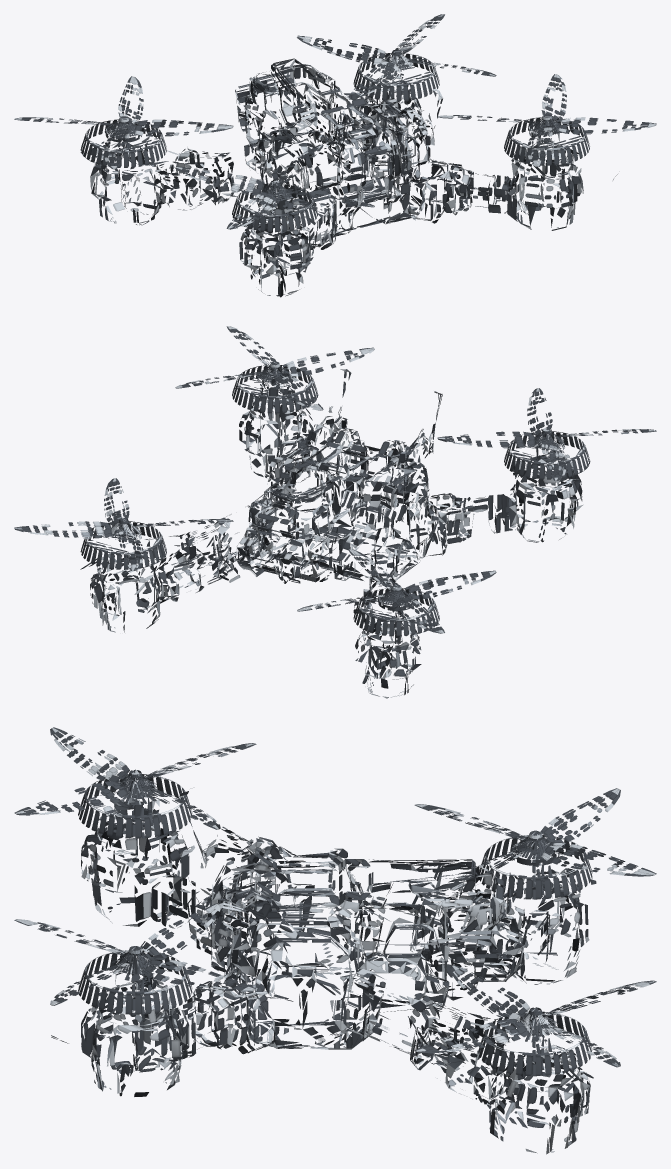
File: drone.obj
3 views of the same model, one above another, from view 1: azimuth 30°, elevation 25°; view 2: azimuth 150°, elevation 25°; view 3: azimuth 270°, elevation 25° (orthographic). The views are drawn at different scales.
Parts seen in each view (by area): view 1: Drone_Body, Rotor_FL, Rotor_FR, Rotor_RL, Rotor_RR; view 2: Drone_Body, Rotor_FL, Rotor_FR, Rotor_RR, Rotor_RL; view 3: Drone_Body, Rotor_FR, Rotor_FL, Rotor_RL, Rotor_RR.
Part boxes in pixels (x1,y1,x2,y2): Drone_Body: (80,53,617,297); Rotor_FL: (14,76,233,169); Rotor_FR: (297,14,496,97); Rotor_RL: (175,145,374,229); Rotor_RR: (437,74,656,166); Drone_Body: (80,365,590,698); Rotor_FL: (297,549,496,633); Rotor_FR: (14,478,233,570); Rotor_RR: (175,326,374,410); Rotor_RL: (437,388,656,480); Drone_Body: (51,774,596,1154); Rotor_FR: (414,965,656,1067); Rotor_FL: (414,788,656,890); Rotor_RL: (14,727,256,829); Rotor_RR: (14,903,256,1005).
Bounding box in the file's own units: 1.04 × 0.4227 × 1.01.
